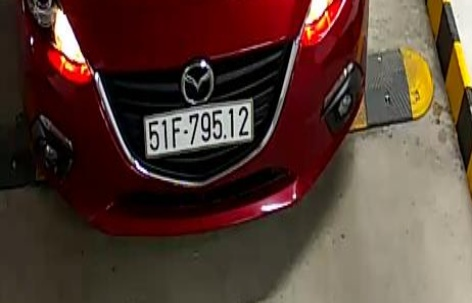plate: (135, 99, 255, 154)
